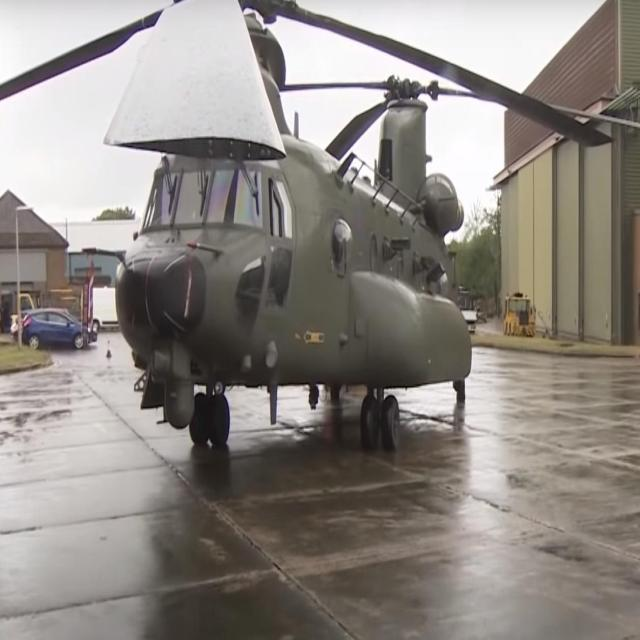Helicopter: (54, 8, 528, 436)
